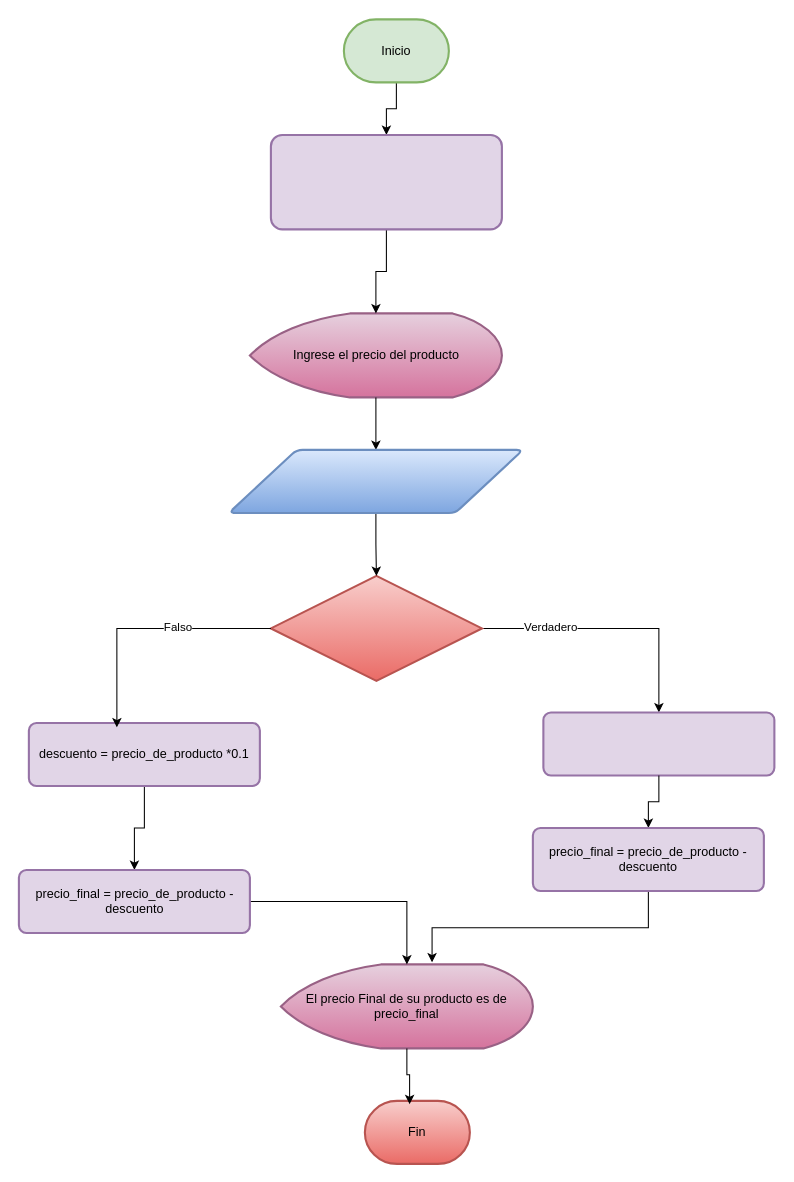
Some shapes in this 794 by 1182 pixel diagram are drawn without their labels. Each missing label, with the centre of its shape:
"descuento = precio_de_producto *0.02" goes at (658,743).
"precio_de_producto" goes at (375,480).
"precio_de_producto < 100" goes at (375,627).
"precio_de_producto = 0 precio_final = 0 descuento = 0" goes at (385,181).
